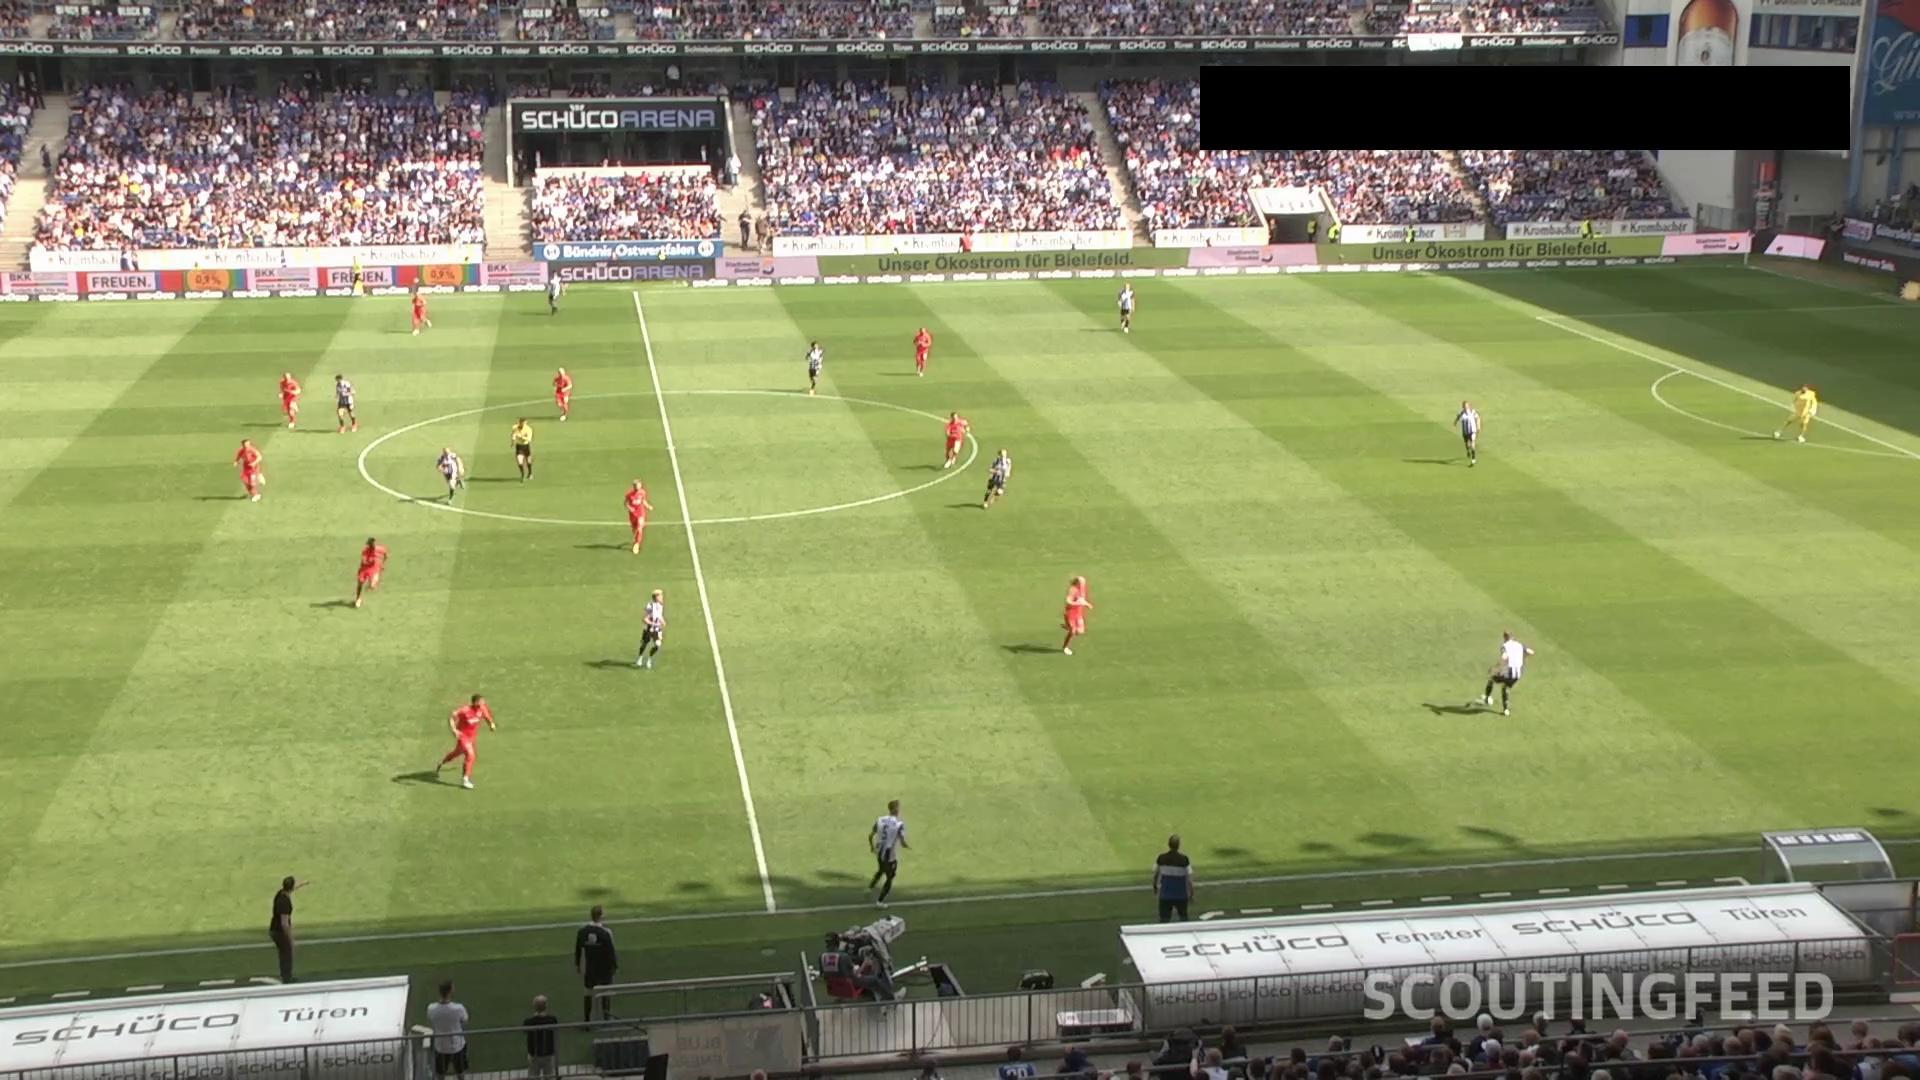Location-of-ball: (1476, 695, 1502, 721)
